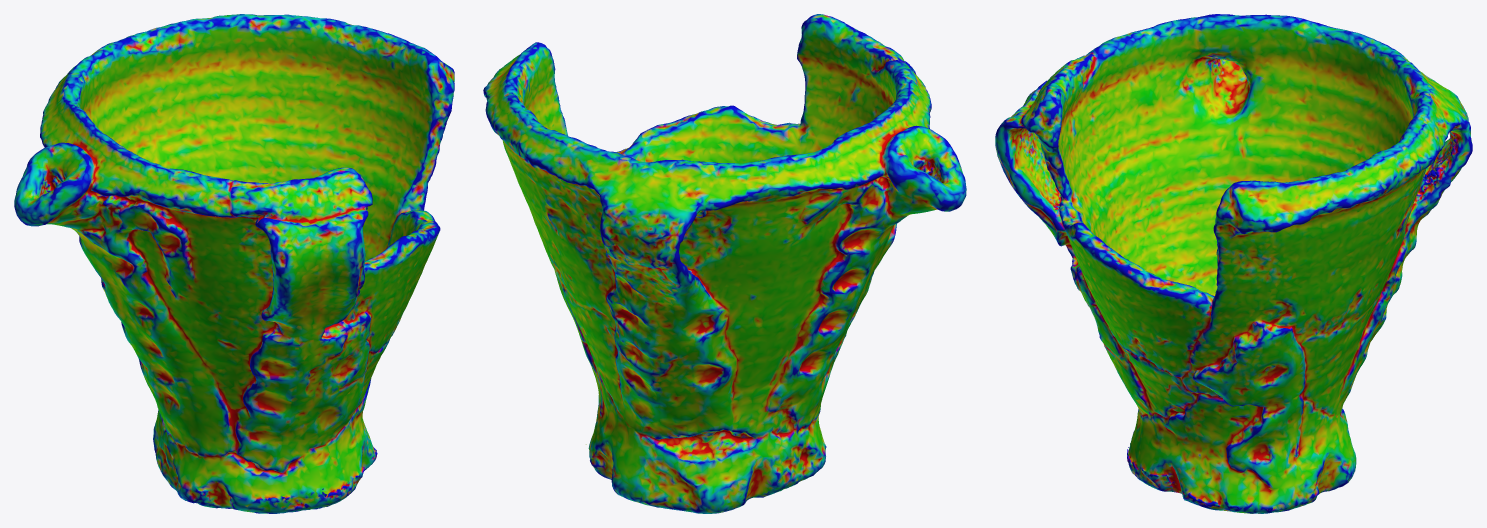
File: CeramiqueMortier_QuadricEdgeDecimationX2+preserve.obj
3 renders of one model, left to right at view 1: azimuth 30°, elevation 25°; view 2: azimuth 150°, elevation 25°; view 3: azimuth 270°, elevation 25°, orthographic. The views are drawn at different scales.
Bounding box in the file's own units: 4.71 × 3.93 × 4.47.
